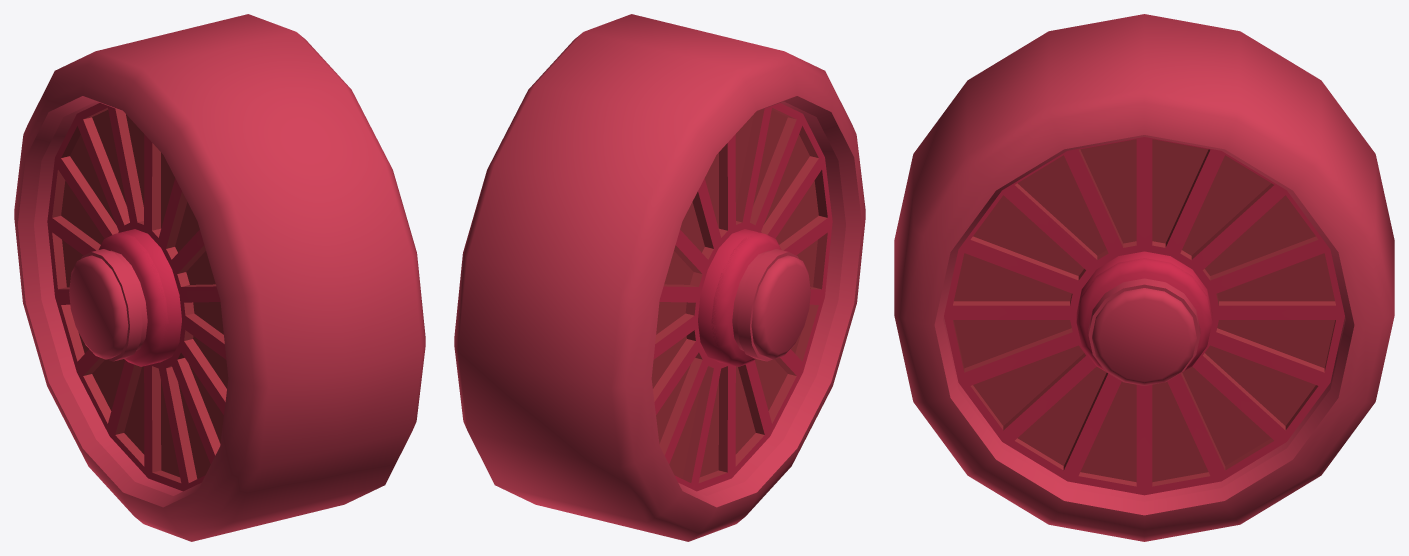
File: nvWheel.obj
3 views of the same model, side by side, from view 1: azimuth 30°, elevation 25°; view 2: azimuth 150°, elevation 25°; view 3: azimuth 270°, elevation 25° (orthographic).
Visible parts, largest first — view 1: whlee_Cylinder.002; view 2: whlee_Cylinder.002; view 3: whlee_Cylinder.002.
Boxes of the visible parts, x1,y1,x2,y2 form: whlee_Cylinder.002: (14,14,425,541); whlee_Cylinder.002: (454,14,865,541); whlee_Cylinder.002: (894,14,1394,541).
Size of the model in its own units: 0.5816 by 0.9872 by 0.9872.
